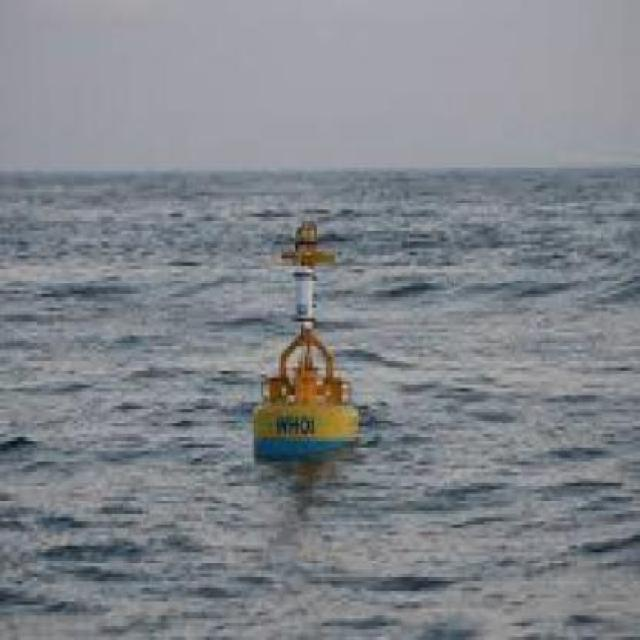buoy: (243, 211, 376, 473)
